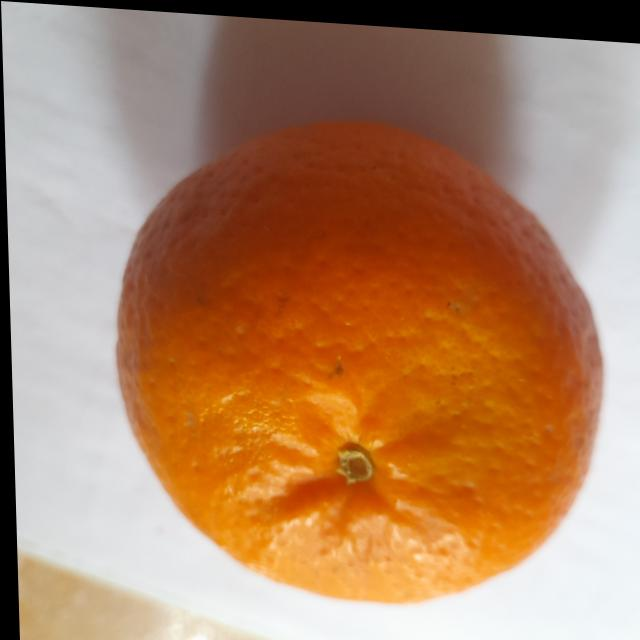Cam: (95, 91, 611, 628)
